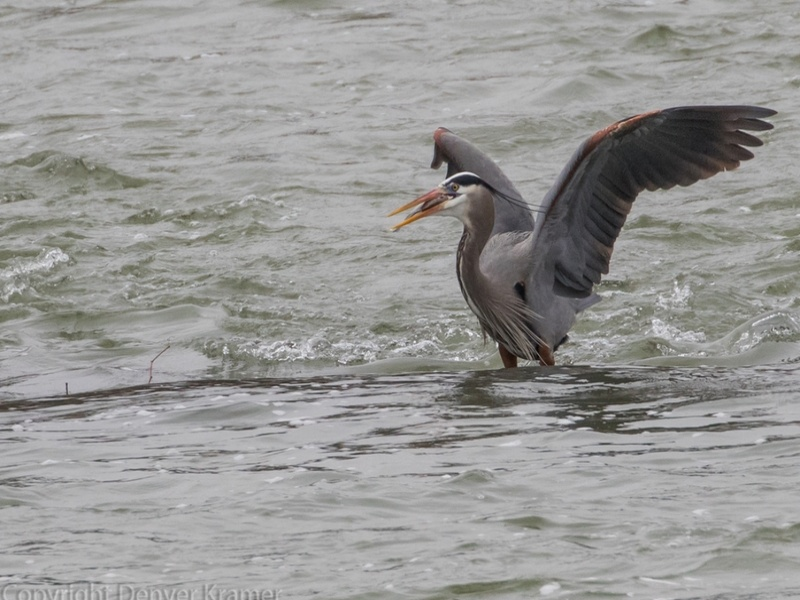heron: (389, 103, 779, 376)
